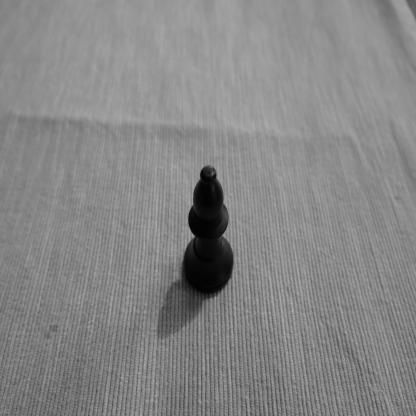black-bishop: (183, 164, 235, 294)
